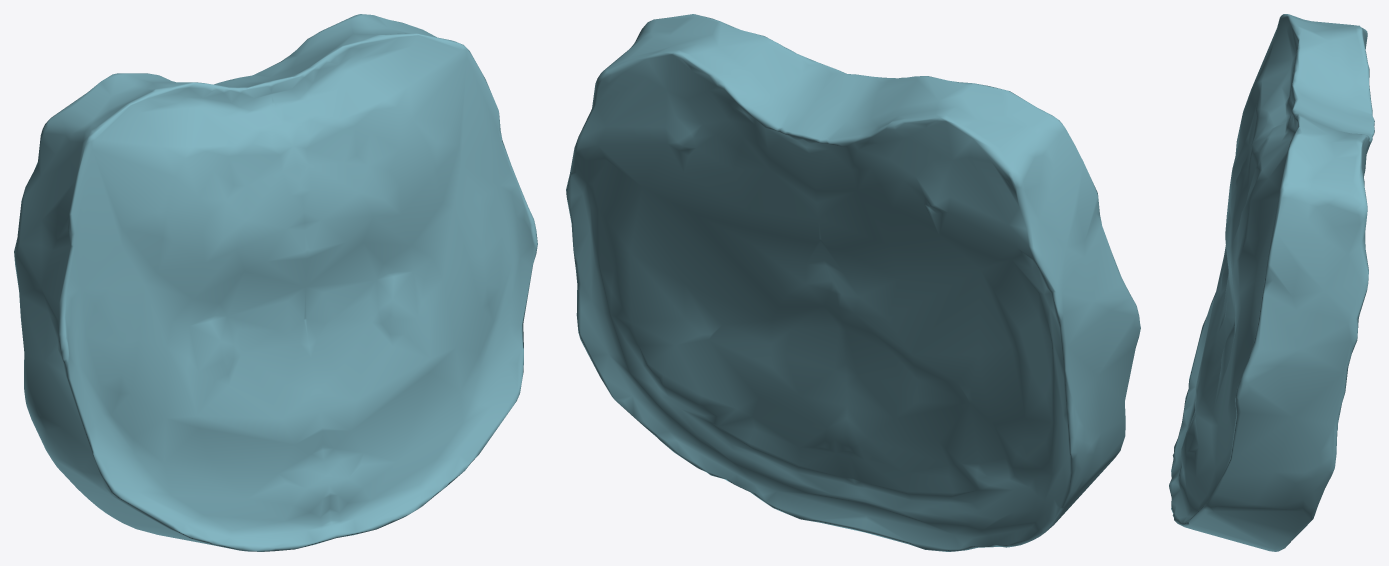
The picture shows the model from 3 angles, left to right: view 1: azimuth 30°, elevation 25°; view 2: azimuth 150°, elevation 25°; view 3: azimuth 270°, elevation 25°; orthographic projection. The views are drawn at different scales.
Parts seen in each view (by area): view 1: 胸10—胸11椎间盘; view 2: 胸10—胸11椎间盘; view 3: 胸10—胸11椎间盘.
Part boxes in pixels (box(x1,y1,x2,y2)): 胸10—胸11椎间盘: box(14, 14, 537, 551); 胸10—胸11椎间盘: box(566, 14, 1140, 551); 胸10—胸11椎间盘: box(1169, 14, 1374, 551).
Bounding box in the file's own units: 0.0598 × 0.0541 × 0.0234.
